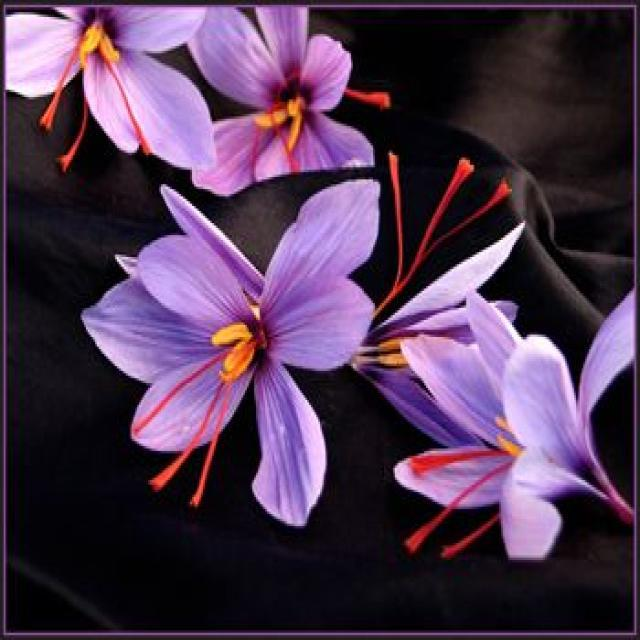Flower: (83, 180, 379, 524), (395, 288, 634, 560), (188, 7, 374, 195), (6, 7, 214, 170)
stigma: (377, 174, 516, 310), (390, 154, 484, 298), (401, 464, 504, 557), (128, 350, 233, 441), (145, 381, 225, 496), (401, 468, 504, 555), (187, 383, 232, 509), (378, 148, 409, 309), (34, 35, 84, 133), (104, 57, 153, 155), (404, 446, 509, 482), (52, 94, 92, 174), (439, 518, 499, 566), (268, 109, 304, 179), (340, 79, 392, 112)
